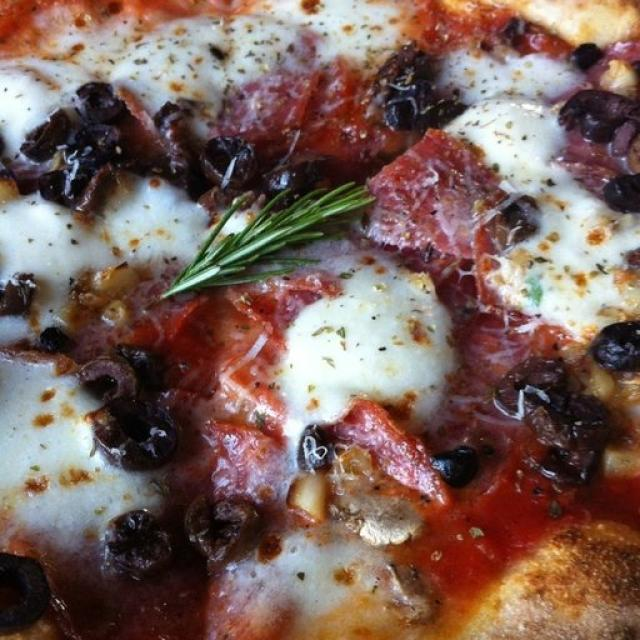Cheese: (0, 356, 106, 532), (302, 281, 419, 392), (540, 208, 630, 318), (12, 205, 78, 308), (141, 32, 257, 90), (122, 181, 194, 259), (487, 102, 557, 182), (470, 56, 569, 95)
Ham: (370, 124, 515, 271), (347, 397, 446, 500)
Olives: (35, 88, 130, 198), (95, 396, 174, 469), (379, 52, 444, 113), (185, 502, 252, 559), (567, 85, 633, 139), (0, 558, 50, 624), (106, 509, 168, 560), (540, 406, 582, 468), (75, 356, 133, 394), (208, 143, 260, 182), (512, 367, 562, 402), (599, 330, 637, 362), (277, 167, 316, 191), (582, 45, 602, 66)
Pizza: (0, 0, 640, 640)
